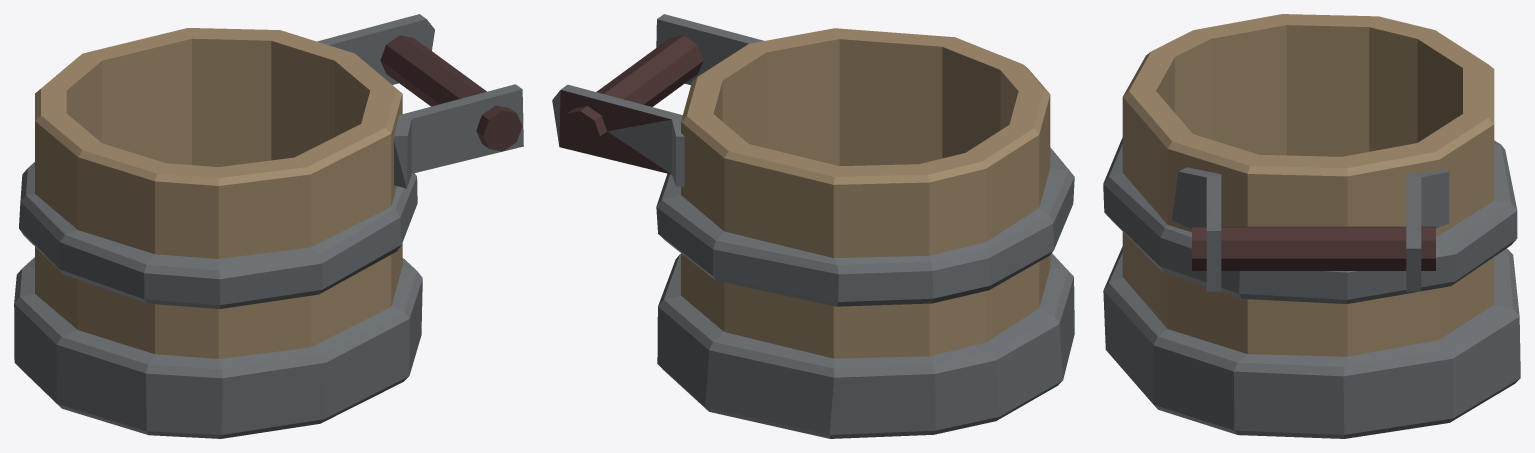
The model's file is LightWoodMechLargeHelixControl1.fbx.
The picture shows the model from 3 angles, left to right: view 1: azimuth 30°, elevation 25°; view 2: azimuth 150°, elevation 25°; view 3: azimuth 270°, elevation 25°; orthographic projection. The views are drawn at different scales.
Parts seen in each view (by area): view 1: LightWoodMechLargeHelixControl1; view 2: LightWoodMechLargeHelixControl1; view 3: LightWoodMechLargeHelixControl1.
Boxes of the visible parts, x1,y1,x2,y2 form: LightWoodMechLargeHelixControl1: [14, 14, 523, 438]; LightWoodMechLargeHelixControl1: [552, 14, 1074, 438]; LightWoodMechLargeHelixControl1: [1103, 14, 1520, 438].
Size of the model in its own units: 180 by 100 by 142.
